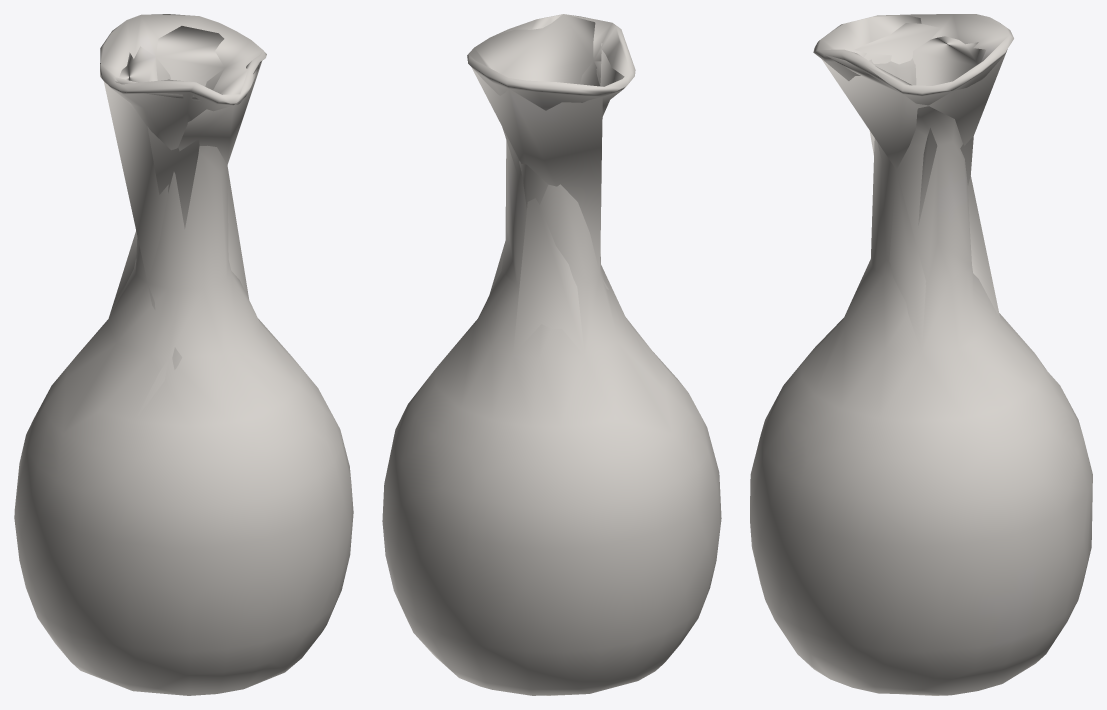
The model's file is ceramic_vase_01.glb.
The picture shows the model from 3 angles, left to right: view 1: azimuth 30°, elevation 25°; view 2: azimuth 150°, elevation 25°; view 3: azimuth 270°, elevation 25°; orthographic projection.
Parts seen in each view (by area): view 1: ceramic_vase_01, ceramic_vase_01_lo; view 2: ceramic_vase_01, ceramic_vase_01_lo; view 3: ceramic_vase_01, ceramic_vase_01_lo.
Boxes of the visible parts, x1,y1,x2,y2 form: ceramic_vase_01: [14, 14, 353, 695]; ceramic_vase_01_lo: [14, 26, 334, 641]; ceramic_vase_01: [382, 14, 721, 695]; ceramic_vase_01_lo: [382, 14, 695, 651]; ceramic_vase_01: [750, 14, 1092, 695]; ceramic_vase_01_lo: [782, 15, 1092, 627].
Bounding box in the file's own units: 0.2021 × 0.4002 × 0.2018.
1 material, 1 textured.
